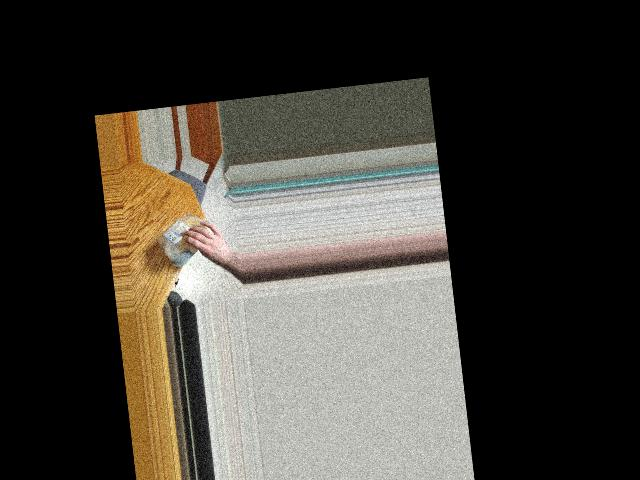cheese: (153, 210, 221, 268)
